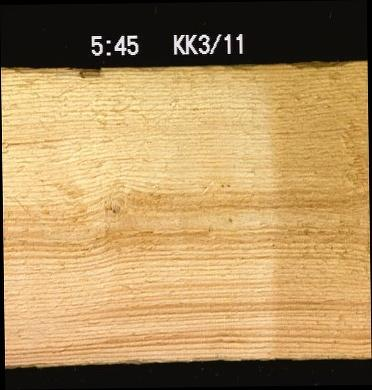wave: (0, 64, 103, 74)
